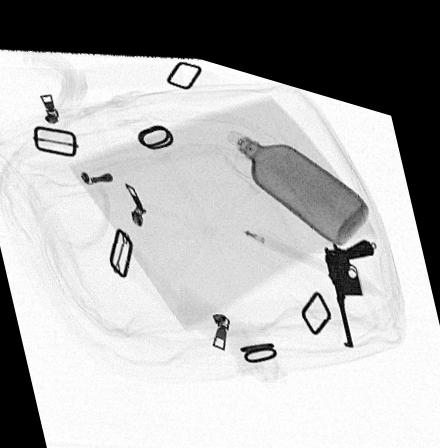Gun: (323, 217, 372, 327)
